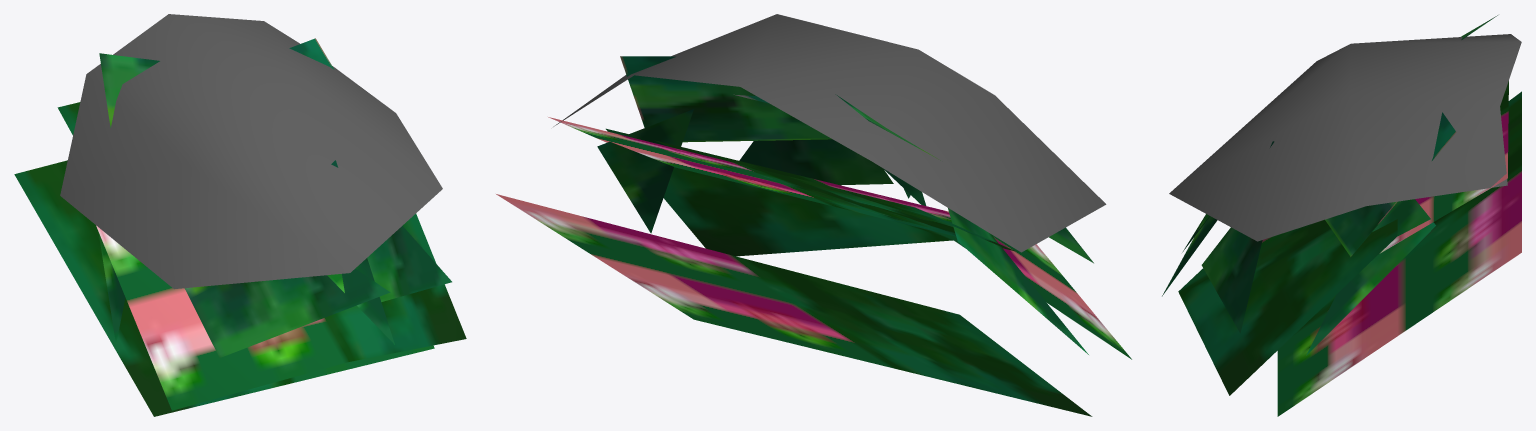
File: fg_bushA_2_s.dae
3 renders of one model, left to right at view 1: azimuth 30°, elevation 25°; view 2: azimuth 150°, elevation 25°; view 3: azimuth 270°, elevation 25°, orthographic. The views are drawn at different scales.
Visible parts, largest first — view 1: fg_bushA_2_s; view 2: fg_bushA_2_s; view 3: fg_bushA_2_s.
Boxes of the visible parts, left/top/right/bottom form: fg_bushA_2_s: left=14, top=14, right=466, bottom=416; fg_bushA_2_s: left=496, top=14, right=1131, bottom=416; fg_bushA_2_s: left=1162, top=15, right=1521, bottom=416.
Bounding box in the file's own units: 42.31 × 35.32 × 38.65.
1 material, 1 textured.
